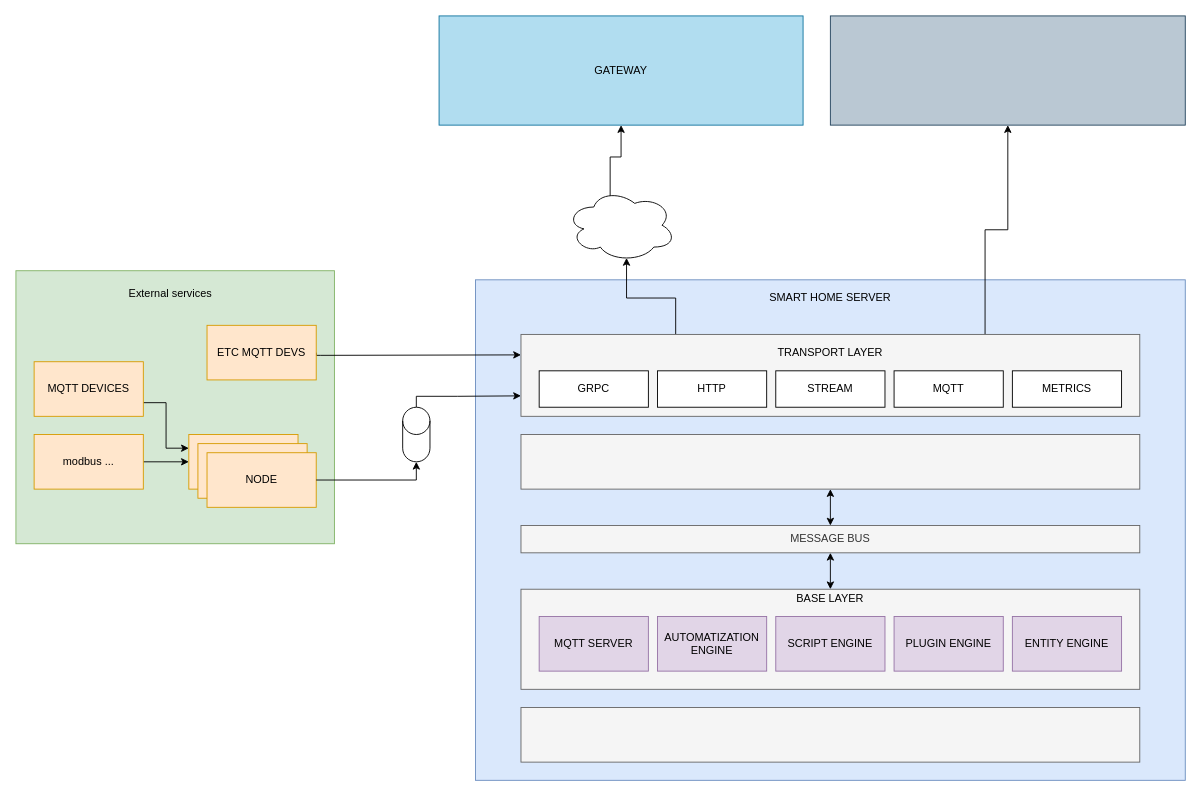
The diagram is 1201 pixels wide and 796 high, and some of its shapes have lost their labels. The shapes that lost their labels are listed below. From the top down, each one's box as (x1, y1, x2, y2) in pixels, then its label:
(829, 15, 1185, 125): WEB UI CONFIGURATOR
(566, 188, 676, 262): internet
(520, 434, 1140, 489): PLUGINS LAYER
(520, 707, 1140, 762): DATABASE POSTGRESQL
